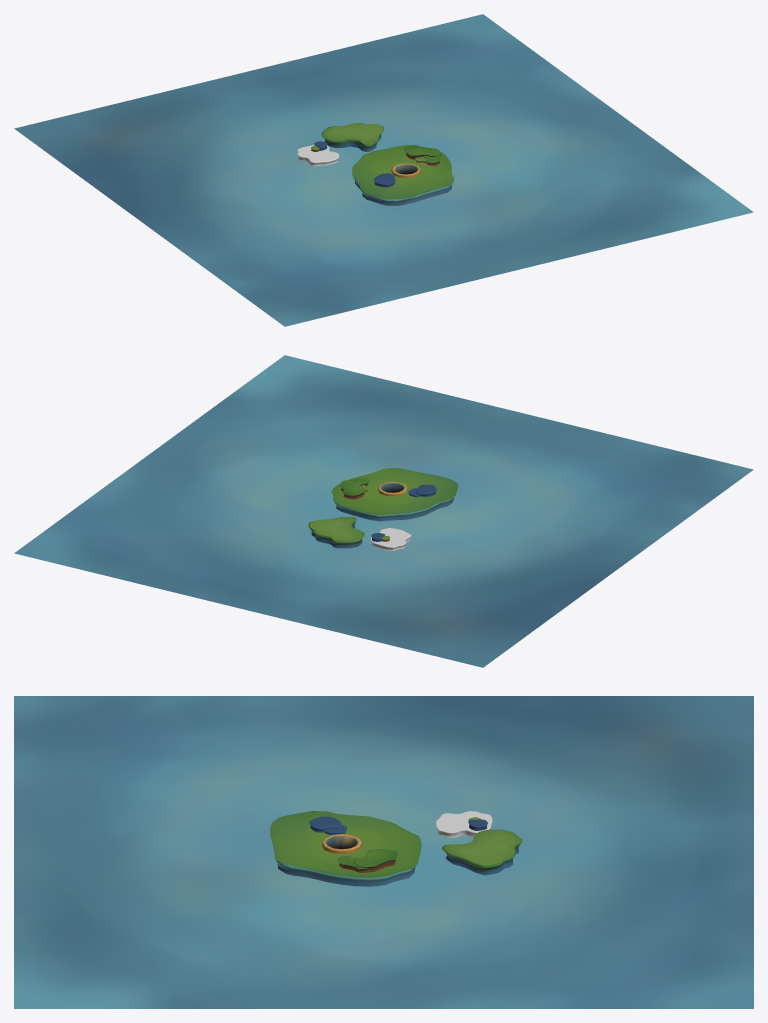
3 views of the same model, one above another, from view 1: azimuth 30°, elevation 25°; view 2: azimuth 150°, elevation 25°; view 3: azimuth 270°, elevation 25° (orthographic). The views are drawn at different scales.
Parts seen in each view (by area): view 1: water, island_03, island_02, island_01; view 2: water, island_03, island_02, island_01; view 3: water, island_03, island_02, island_01, platform_03, Pit.
Boxes of the visible parts, left/top/right/bottom form: water: left=14, top=14, right=753, bottom=326; island_03: left=352, top=145, right=454, bottom=205; island_02: left=321, top=123, right=383, bottom=151; island_01: left=297, top=145, right=339, bottom=166; water: left=14, top=355, right=753, bottom=667; island_03: left=331, top=468, right=458, bottom=521; island_02: left=308, top=517, right=364, bottom=548; island_01: left=370, top=528, right=411, bottom=550; water: left=14, top=696, right=753, bottom=1008; island_03: left=270, top=811, right=421, bottom=886; island_02: left=442, top=829, right=522, bottom=875; island_01: left=435, top=811, right=492, bottom=837; platform_03: left=353, top=849, right=397, bottom=872; Pit: left=322, top=834, right=361, bottom=854.
Bounding box in the file's own units: 650 × 23.12 × 650.
